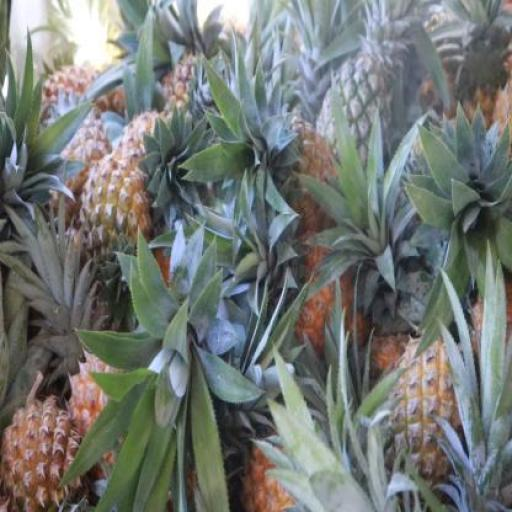------------------------------: (380, 336, 464, 489), (82, 155, 149, 288)
Pineapple - v8 v1: (0, 399, 79, 511)
